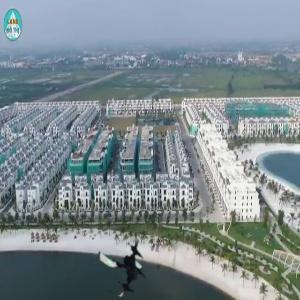drone: (90, 230, 157, 297)
